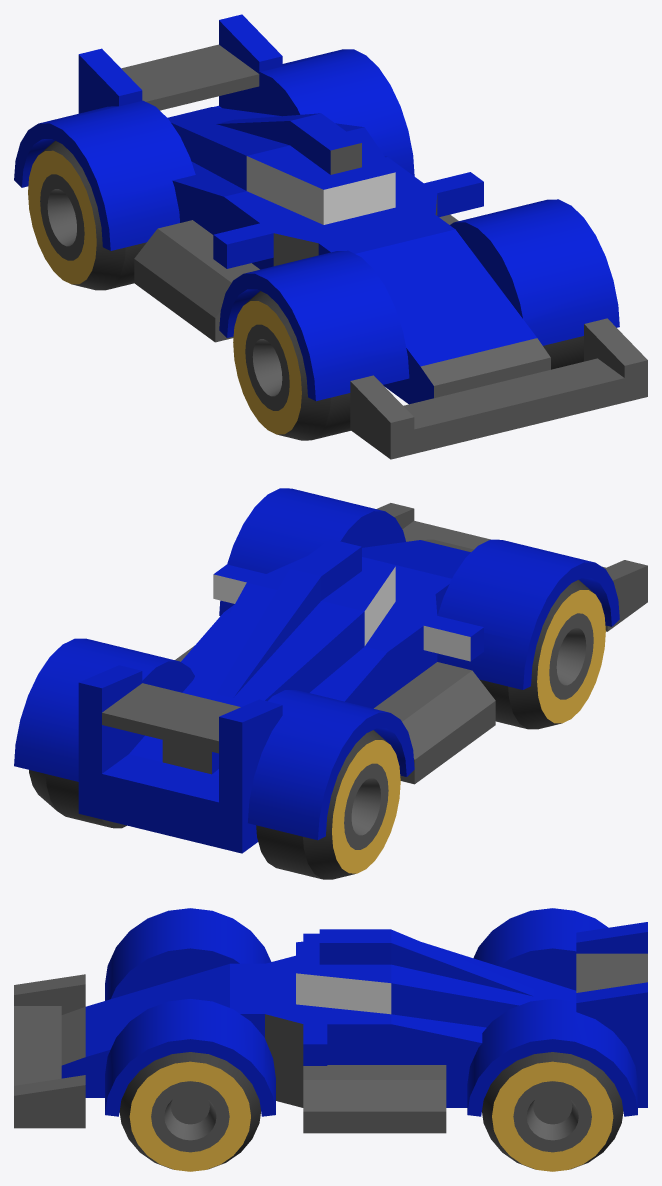
File: raceFuture.fbx
The picture shows the model from 3 angles, top to bottom: view 1: azimuth 30°, elevation 25°; view 2: azimuth 150°, elevation 25°; view 3: azimuth 270°, elevation 25°; orthographic projection. The views are drawn at different scales.
Parts seen in each view (by area): view 1: body, wheel_frontRight, wheel_backRight, wheel_frontLeft; view 2: body, wheel_backRight, wheel_frontRight, wheel_backLeft; view 3: body, wheel_frontLeft, wheel_backLeft.
Part boxes in pixels (x1,y1,x2,y2): body: [14, 14, 647, 459]; wheel_frontRight: [233, 291, 350, 440]; wheel_backRight: [28, 140, 146, 290]; wheel_frontLeft: [543, 336, 583, 369]; body: [14, 488, 647, 853]; wheel_backRight: [256, 730, 400, 879]; wheel_frontRight: [480, 580, 605, 729]; wheel_backLeft: [29, 770, 126, 828]; body: [14, 908, 647, 1133]; wheel_frontLeft: [119, 1052, 260, 1171]; wheel_backLeft: [482, 1052, 623, 1171].
Size of the model in its own units: 13 by 8.33 by 26.6.
